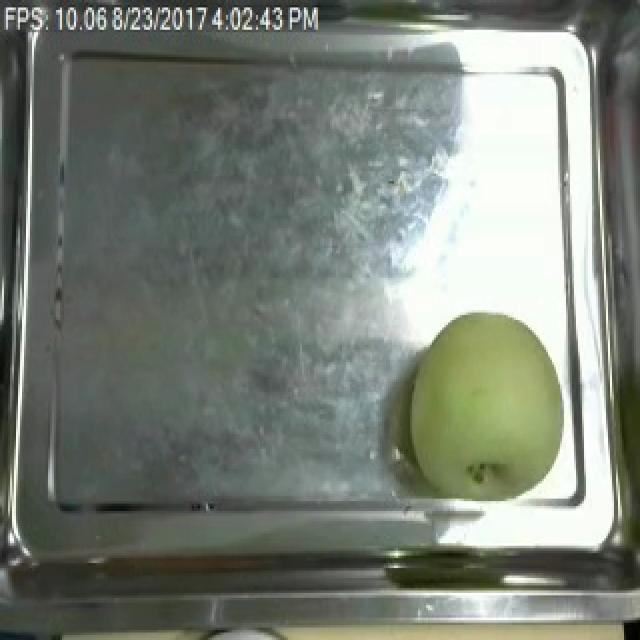50-_ripeness: (400, 307, 570, 511)
